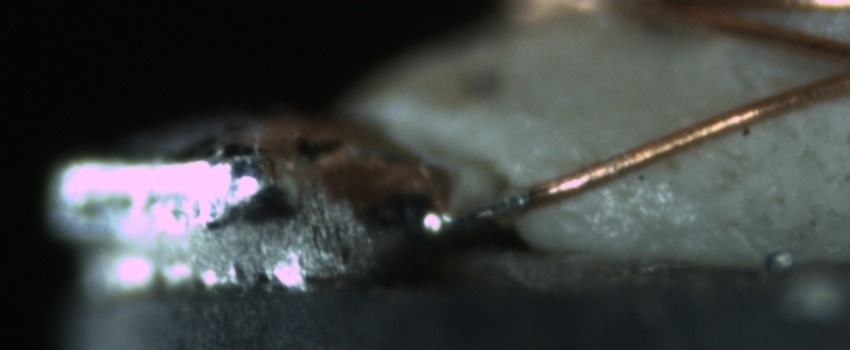TS: (437, 189, 531, 232)
TTCW: (434, 176, 560, 232)
